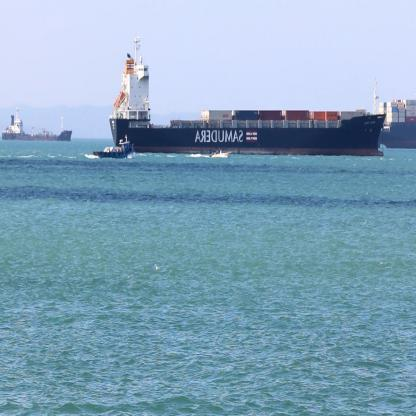Container Ship: (109, 33, 387, 157), (378, 98, 416, 150)
